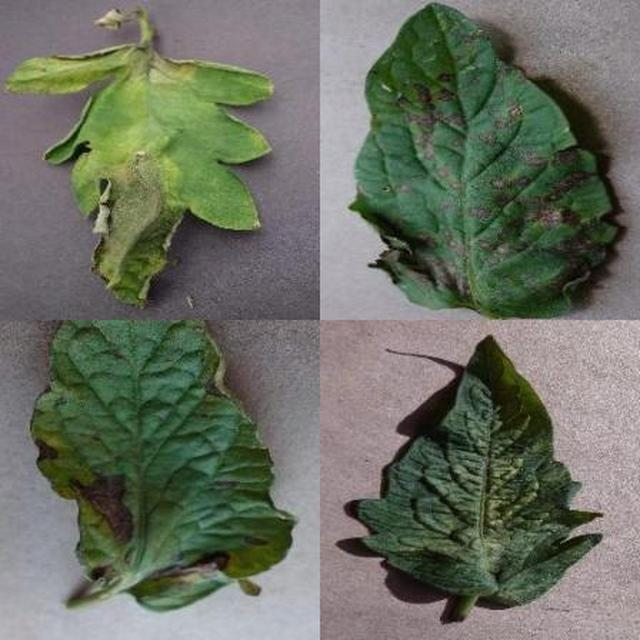Late Blight Leaf: (198, 229, 640, 640)
